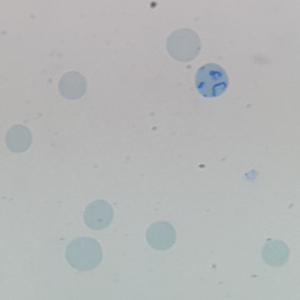aggregate reticulocyte: (193, 62, 230, 99)
erythrocyte: (63, 235, 104, 272), (81, 198, 116, 231), (56, 69, 89, 102), (2, 123, 35, 155), (144, 220, 177, 252), (260, 237, 291, 267)
punctate reticulocyte: (164, 27, 203, 63)
